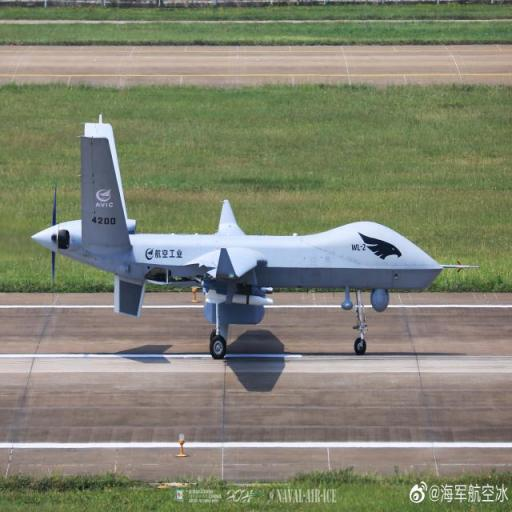uav: (24, 120, 478, 371)
